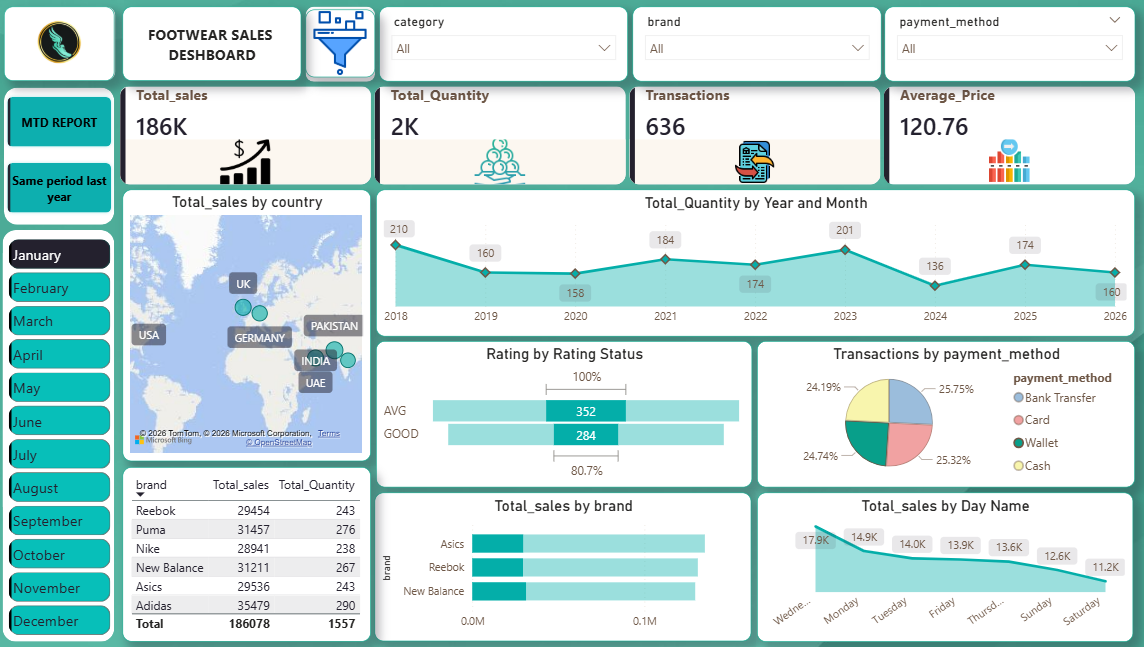

The page's visual inventory and layout, read from the dashboard file:
{"tool":"powerbi","page":{"name":"Dashboard","canvas":[1280,720],"ordinal":0},"visuals":[{"type":"shape","box":[6.2,7.5,123.8,82.5],"z":0},{"type":"shape","box":[6.2,97.5,122.5,152.5],"z":1000},{"type":"shape","box":[5,256.7,124.2,457.5],"z":2000},{"type":"advancedSlicerVisual","fields":{"Values":["Date_column.Date.Variation.Date Hierarchy.Month"]},"box":[6.2,261.5,123.1,452.3],"z":3000},{"type":"image","box":[6.2,7.5,122.5,82.5],"z":4000},{"type":"cardVisual","fields":{"Data":["footwear_sales_data.Total_sales","footwear_sales_data.Total_Quantity","footwear_sales_data.Transactions","footwear_sales_data.Average_Price"]},"box":[117.7,80,1162.3,143.8],"z":5000},{"type":"slicer","fields":{"Values":["footwear_sales_data.category"]},"box":[423.3,8.3,276.7,83.3],"z":6000},{"type":"slicer","fields":{"Values":["footwear_sales_data.brand"]},"box":[705,8.3,276.7,83.3],"z":7000},{"type":"slicer","fields":{"Values":["footwear_sales_data.payment_method"]},"box":[985,8.3,278.3,83.3],"z":8000},{"type":"shape","box":[341.2,7.5,77.5,83.8],"z":9000},{"type":"image","box":[341.2,11.2,77.5,75],"z":10000},{"type":"shape","box":[137.5,7.5,198.8,82.5],"z":11000},{"type":"textbox","box":[161.2,22.5,152.5,52.5],"z":12000},{"type":"map","fields":{"Category":["footwear_sales_data.country"],"Size":["footwear_sales_data.Total_sales"]},"box":[138,212,276,302],"z":13000},{"type":"lineChart","fields":{"Y":["footwear_sales_data.Total_Quantity"],"Category":["Date_column.Date.Variation.Date Hierarchy.Month"]},"box":[420,211.7,843.3,163.3],"z":14000},{"type":"funnel","title":"Rating by Rating Status","fields":{"Y":["CountNonNull(footwear_sales_data.Rating Status)"],"Category":["footwear_sales_data.Rating Status"]},"box":[420,380,417.8,162.8],"z":15000},{"type":"pieChart","fields":{"Category":["footwear_sales_data.payment_method"],"Y":["footwear_sales_data.Transactions"]},"box":[842.9,380,420,162.9],"z":16000},{"type":"clusteredBarChart","fields":{"Y":["footwear_sales_data.Total_sales"],"Category":["footwear_sales_data.brand"]},"box":[418.9,548.9,418.9,165],"z":17000},{"type":"areaChart","fields":{"Y":["footwear_sales_data.Total_sales"],"Category":["Date_column.Day Name"]},"box":[844,548,418,166],"z":18000},{"type":"tableEx","fields":{"Values":["footwear_sales_data.brand","footwear_sales_data.Total_sales","footwear_sales_data.Total_Quantity"]},"box":[138.3,520,275.8,194.2],"z":19000},{"type":"pageNavigator","box":[6.7,105,123.3,136.7],"z":19501}]}

Visuals, with their boxes in screenshot pixels (x1, y1, x2, y2), scaled from the page's 1280x720 canvas onto the 1144x647 screenshot:
shape: crop(6, 7, 116, 81)
shape: crop(6, 88, 115, 225)
shape: crop(4, 231, 115, 642)
advancedSlicerVisual - Date_column.Date.Variation.Date Hierarchy.Month: crop(6, 235, 116, 641)
image: crop(6, 7, 115, 81)
cardVisual - footwear_sales_data.Total_sales x footwear_sales_data.Total_Quantity: crop(105, 72, 1143, 201)
slicer - footwear_sales_data.category: crop(378, 7, 626, 82)
slicer - footwear_sales_data.brand: crop(630, 7, 877, 82)
slicer - footwear_sales_data.payment_method: crop(880, 7, 1129, 82)
shape: crop(305, 7, 374, 82)
image: crop(305, 10, 374, 77)
shape: crop(123, 7, 301, 81)
textbox: crop(144, 20, 280, 67)
map - footwear_sales_data.country x footwear_sales_data.Total_sales: crop(123, 191, 370, 462)
lineChart - footwear_sales_data.Total_Quantity x Date_column.Date.Variation.Date Hierarchy.Month: crop(375, 190, 1129, 337)
"Rating by Rating Status" funnel: crop(375, 341, 749, 488)
pieChart - footwear_sales_data.payment_method x footwear_sales_data.Transactions: crop(753, 341, 1129, 488)
clusteredBarChart - footwear_sales_data.Total_sales x footwear_sales_data.brand: crop(374, 493, 749, 642)
areaChart - footwear_sales_data.Total_sales x Date_column.Day Name: crop(754, 492, 1128, 642)
tableEx - footwear_sales_data.brand x footwear_sales_data.Total_sales: crop(124, 467, 370, 642)
pageNavigator: crop(6, 94, 116, 217)
